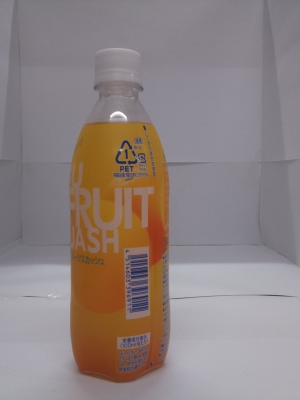grapefruits: (45, 34, 191, 389)
